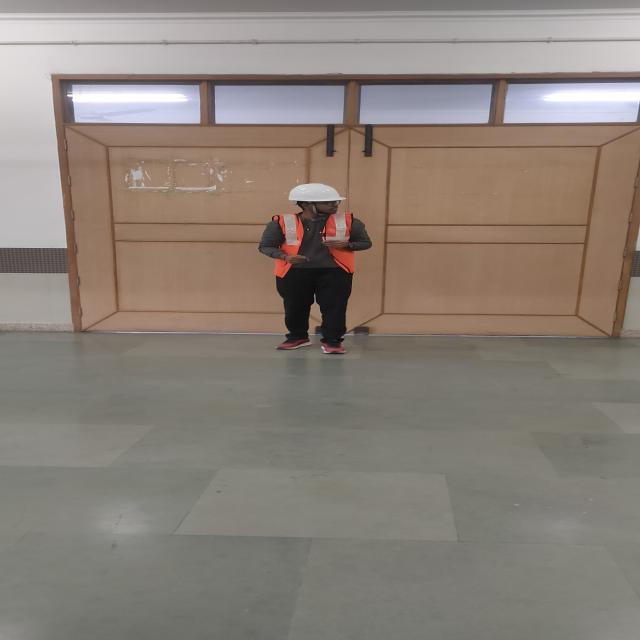safe: (259, 183, 372, 353)
